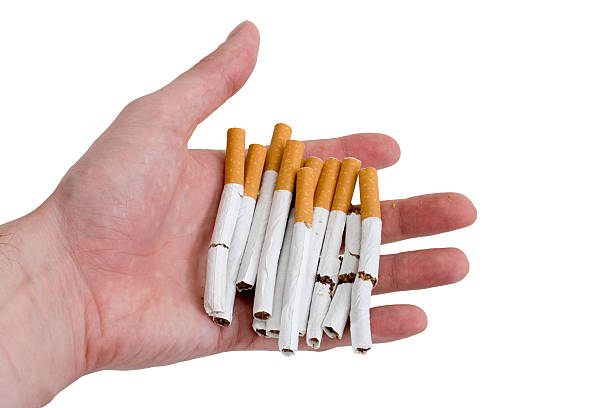cigarette: (212, 141, 268, 329), (234, 120, 294, 293), (251, 138, 307, 321), (204, 127, 247, 318), (297, 156, 342, 338), (278, 165, 315, 357), (314, 156, 363, 290), (266, 207, 293, 338), (357, 165, 382, 289), (320, 280, 357, 341), (349, 276, 374, 356), (306, 280, 334, 349), (338, 205, 362, 282), (305, 152, 325, 184), (252, 321, 267, 340)
